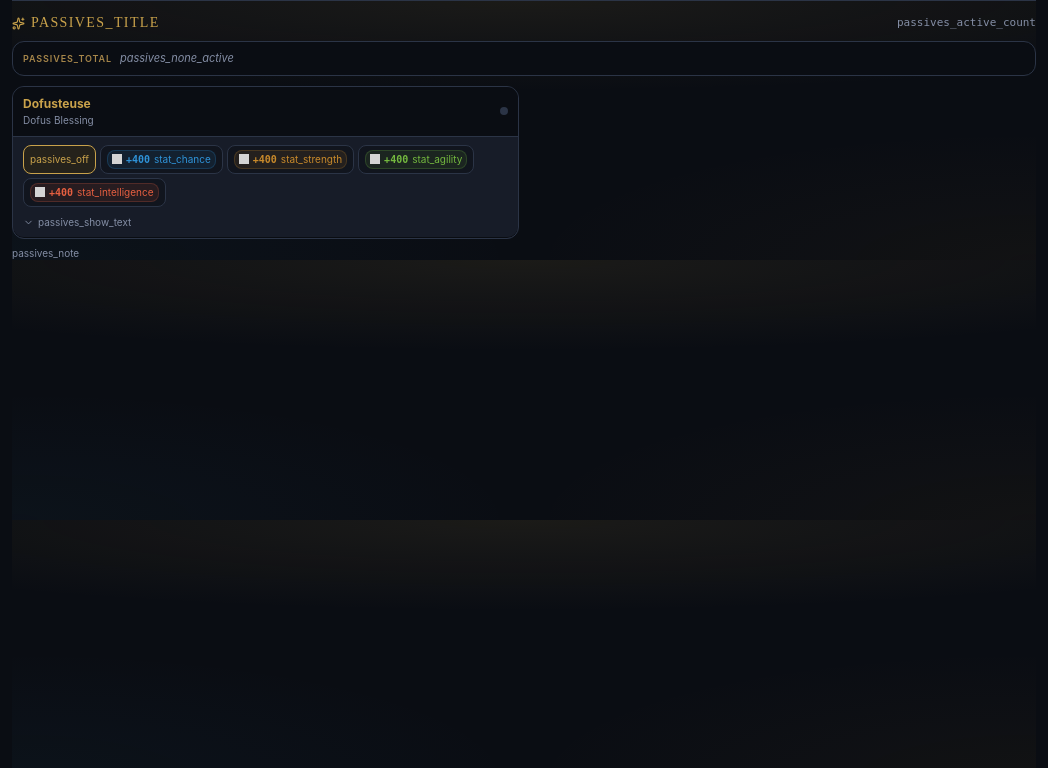
Test case: plainText (item text markup) › the in-game text shown in a card has no markup left
Click the button "passives_show_text" at point(77, 222), box [23,214,131,230]
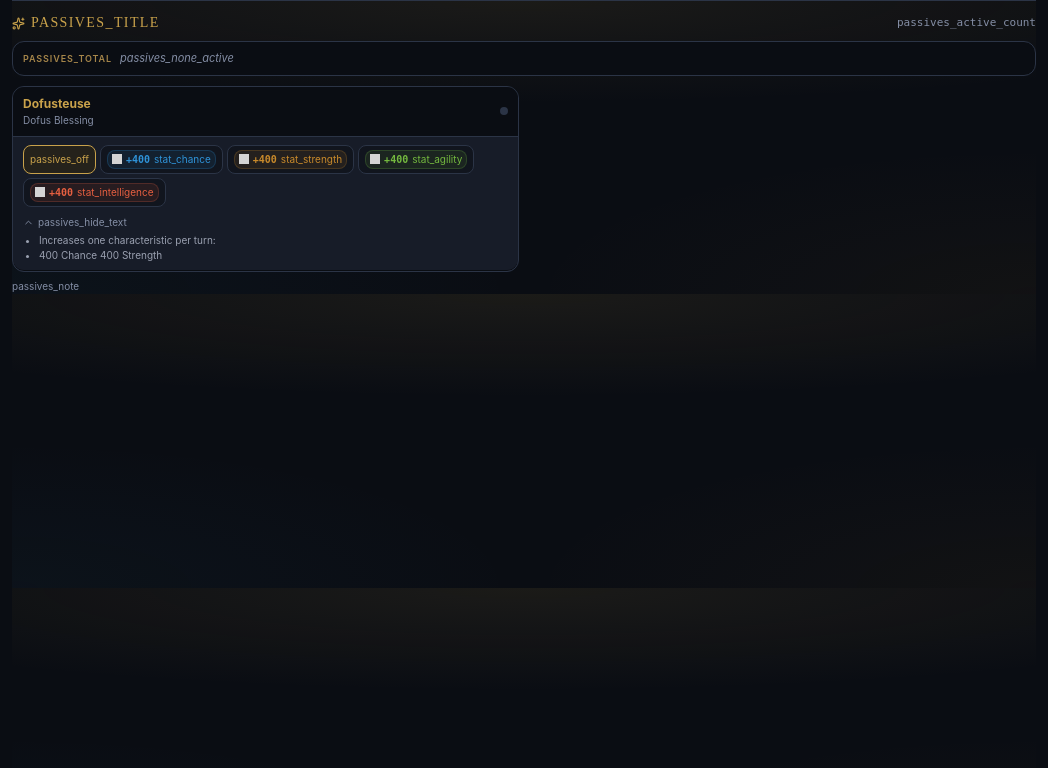
Check: the list shows "400 Chance", box [39,249,162,261]
